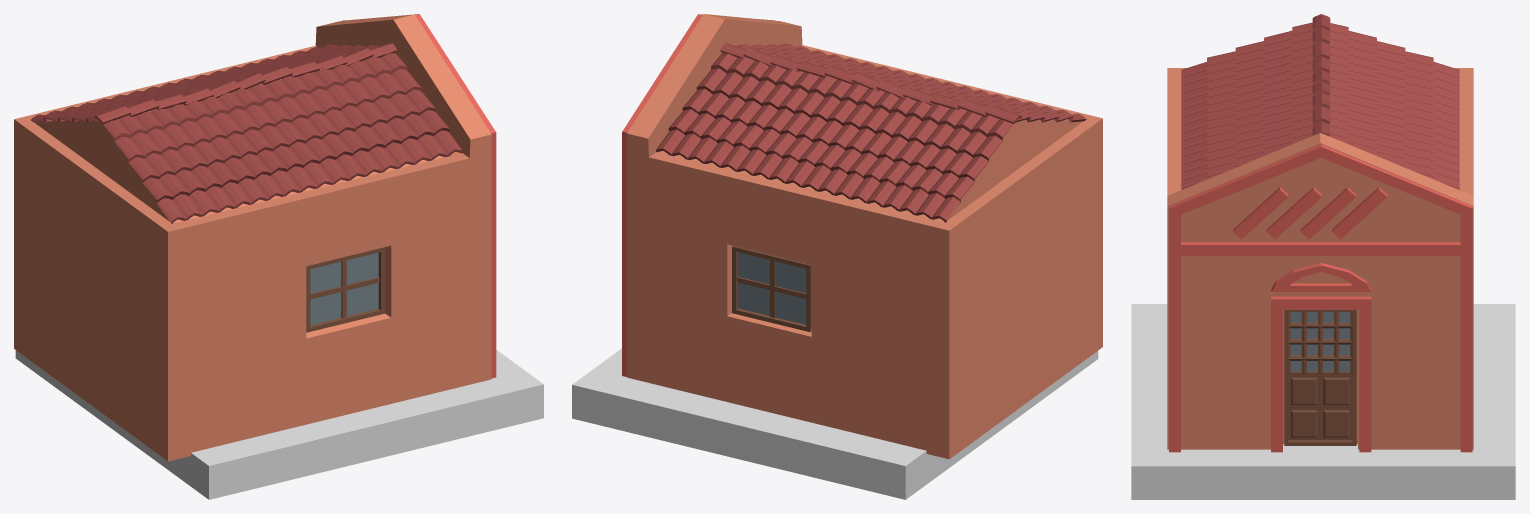
File: casa4.fbx
3 views of the same model, side by side, from view 1: azimuth 30°, elevation 25°; view 2: azimuth 150°, elevation 25°; view 3: azimuth 270°, elevation 25° (orthographic).
Visible parts, largest first — view 1: Cube.005, Cube.009; view 2: Cube.005, Cube.009; view 3: Cube.005, Cube.009.
Boxes of the visible parts, x1,y1,x2,y2 form: Cube.005: (14,14,496,461); Cube.009: (15,350,543,499); Cube.005: (622,14,1102,459); Cube.009: (572,348,1098,499); Cube.005: (1167,14,1473,452); Cube.009: (1131,304,1515,499).
Size of the model in its own units: 268 by 245 by 251.
